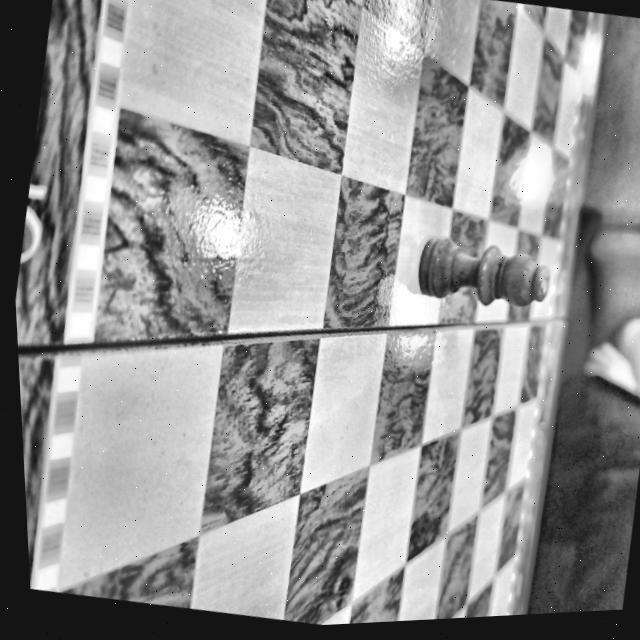black-bishop: (416, 236, 548, 307)
